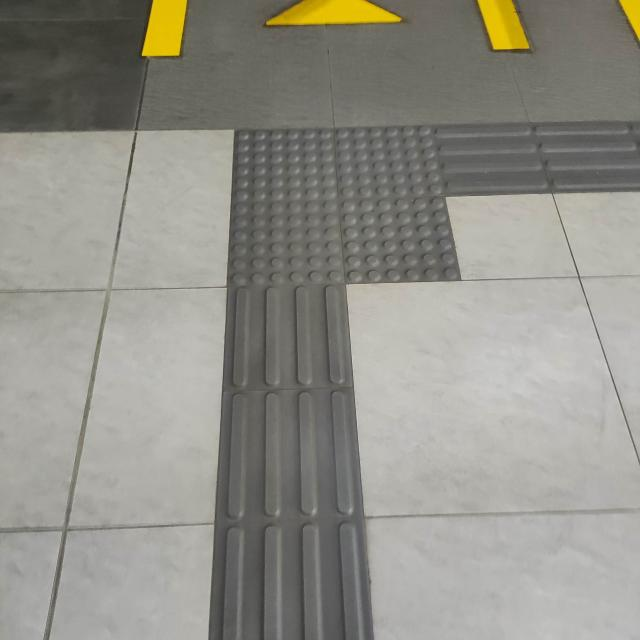kanan: (186, 104, 608, 333)
